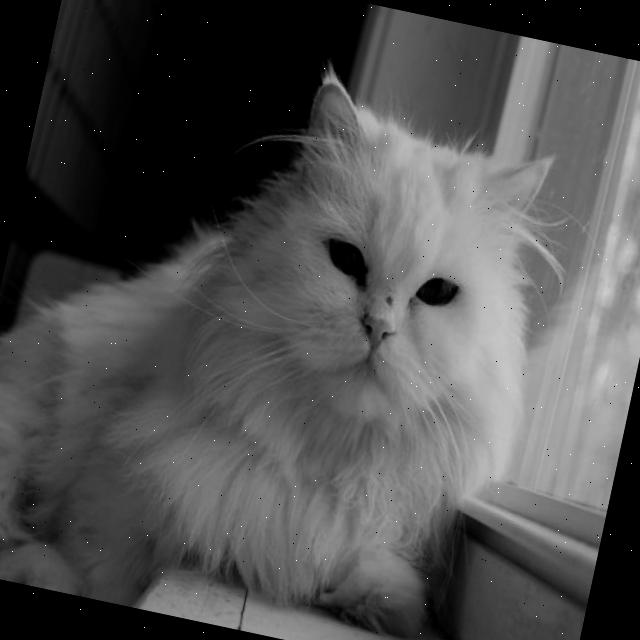persian_cat: (181, 38, 592, 512)
